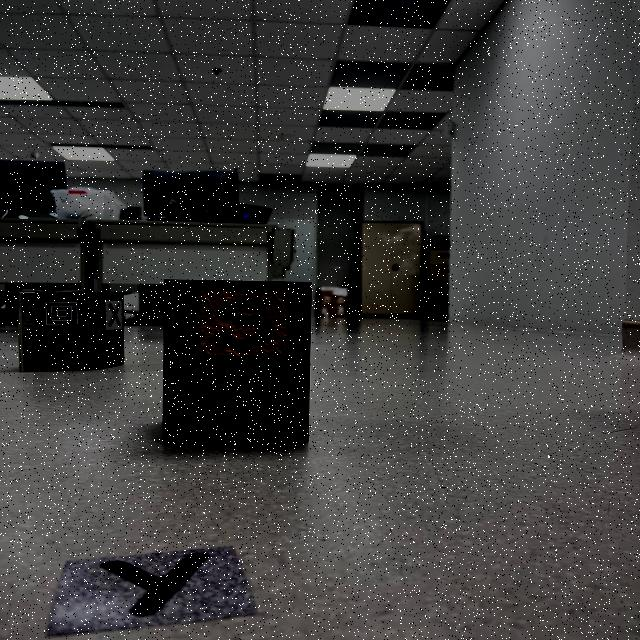S_id28: (197, 288, 291, 359)
X_id33: (105, 300, 124, 331)
Y_id34: (48, 544, 263, 640)
bullseye-id10: (39, 297, 86, 330)
